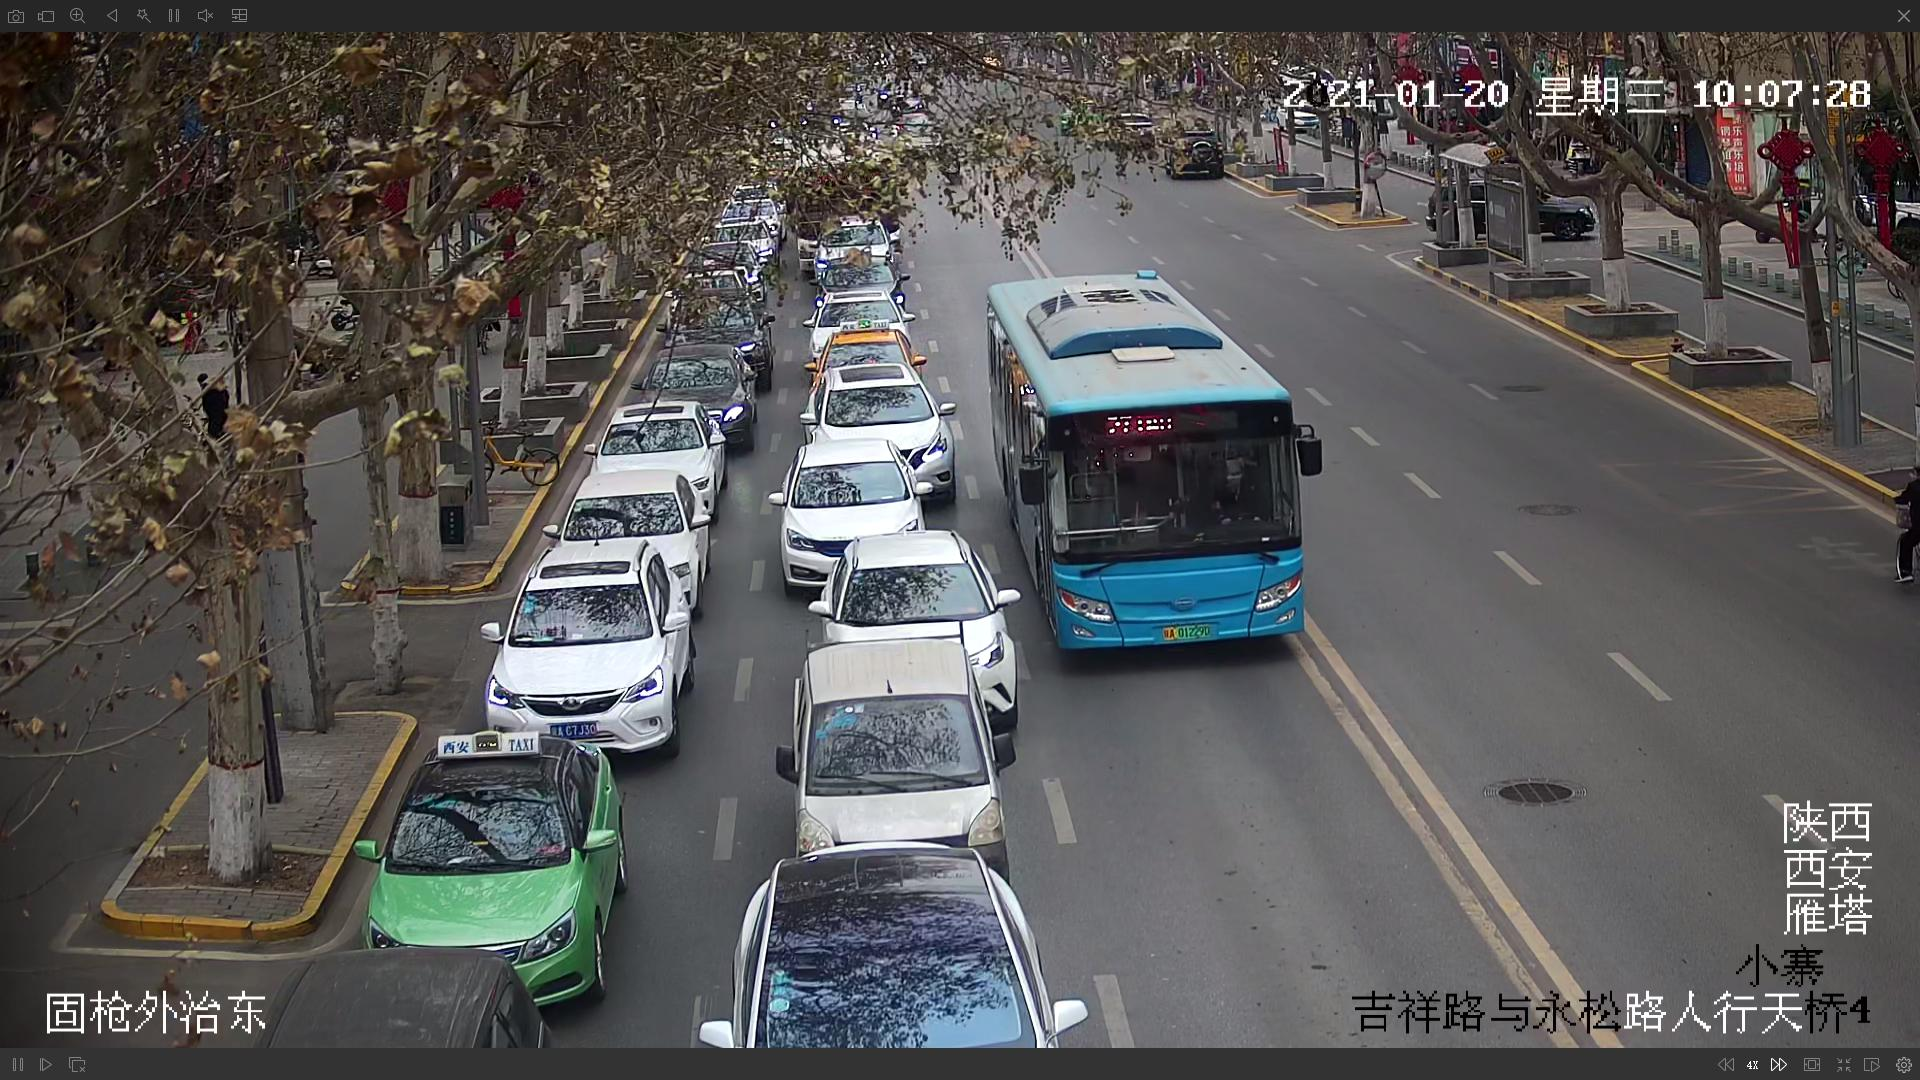blue: (990, 284, 1331, 647)
grass-green: (373, 733, 625, 994)
silver-gray: (785, 644, 1011, 874)
white: (483, 545, 680, 748)
